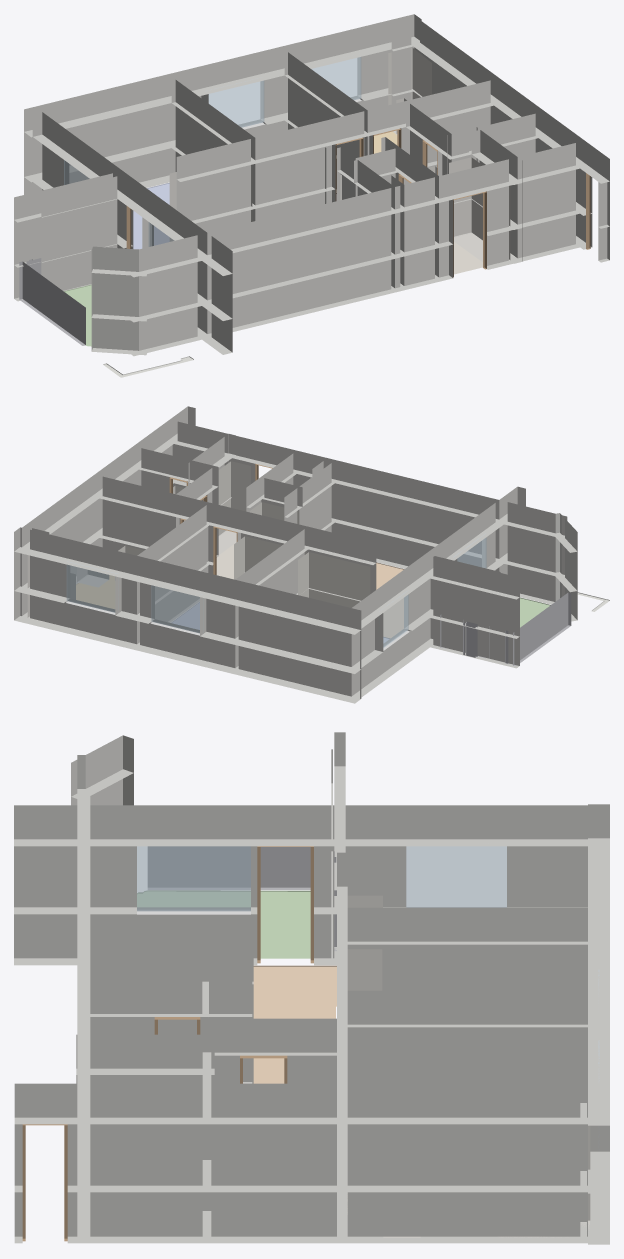
3 views of the same model, one above another, from view 1: azimuth 30°, elevation 25°; view 2: azimuth 150°, elevation 25°; view 3: azimuth 270°, elevation 25° (orthographic). The views are drawn at different scales.
Parts seen in each view (by area): view 1: walls, railings, furniture_4_closet, window_0, window_1, furniture_0_closet, floor_0_Bed_Room, floor_8_Outdoor, floor_2_Entry; view 2: walls, furniture_1_closet, railings, window_1, window_0, furniture_4_closet, furniture_2_closet, floor_1_Living_Room, window_3, floor_4_Kitchen, window_10, floor_8_Outdoor (+4 smaller); view 3: walls, window_10, railings, window_3, floor_8_Outdoor, floor_1_Living_Room, furniture_2_closet, door_11, door_2, sill_10.
Part boxes in pixels (left/top/right/bottom): walls: left=14, top=14, right=609, bottom=356; railings: left=19, top=258, right=85, bottom=345; furniture_4_closet: left=449, top=157, right=510, bottom=262; window_0: left=208, top=78, right=264, bottom=127; window_1: left=311, top=57, right=361, bottom=99; furniture_0_closet: left=388, top=47, right=431, bottom=134; floor_0_Bed_Room: left=133, top=183, right=169, bottom=249; floor_8_Outdoor: left=64, top=284, right=91, bottom=346; floor_2_Entry: left=454, top=242, right=482, bottom=274; walls: left=14, top=406, right=577, bottom=703; furniture_1_closet: left=298, top=552, right=370, bottom=607; railings: left=440, top=592, right=571, bottom=665; window_1: left=66, top=561, right=117, bottom=612; window_0: left=151, top=585, right=201, bottom=633; furniture_4_closet: left=218, top=461, right=250, bottom=555; furniture_2_closet: left=234, top=536, right=306, bottom=579; floor_1_Living_Room: left=376, top=562, right=404, bottom=638; window_3: left=379, top=591, right=408, bottom=647; floor_4_Kitchen: left=76, top=575, right=114, bottom=608; window_10: left=453, top=533, right=486, bottom=568; floor_8_Outdoor: left=520, top=597, right=550, bottom=627; walls: left=14, top=732, right=609, bottom=1244; window_10: left=137, top=846, right=250, bottom=911; railings: left=148, top=846, right=336, bottom=950; window_3: left=406, top=846, right=506, bottom=907; floor_8_Outdoor: left=137, top=890, right=310, bottom=958; floor_1_Living_Room: left=253, top=965, right=336, bottom=1083; furniture_2_closet: left=347, top=949, right=382, bottom=990; door_11: left=22, top=1124, right=67, bottom=1241; door_2: left=257, top=846, right=313, bottom=963; sill_10: left=137, top=909, right=250, bottom=914.
Size of the model in its own units: 13.6 by 2.72 by 9.54.
